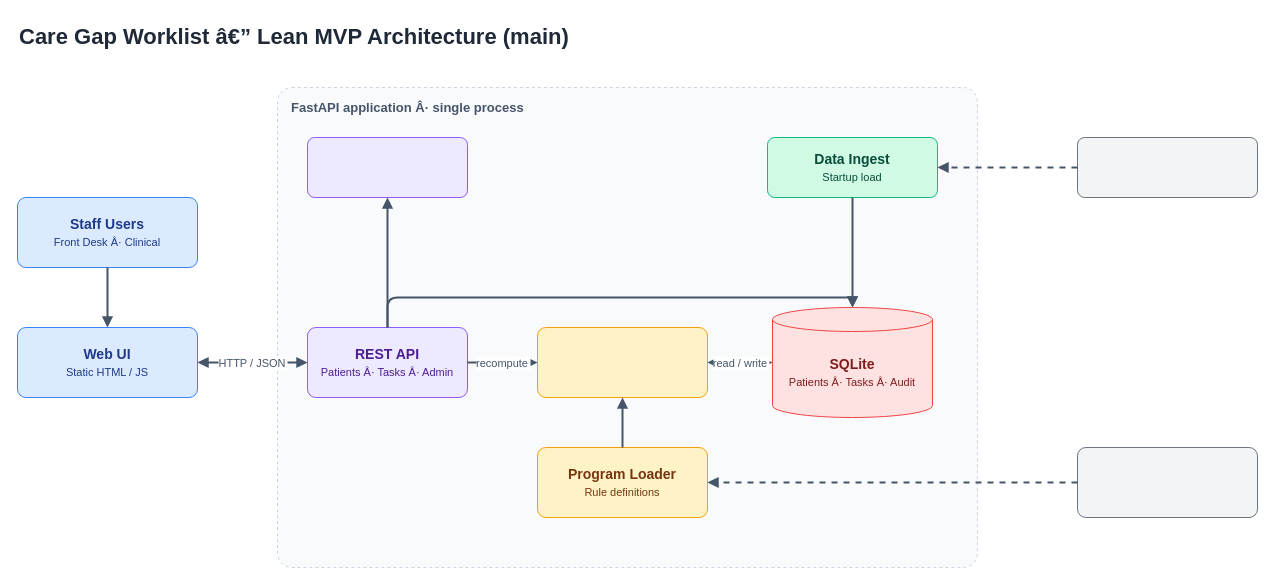
This 1275x585 diagram has some shape labels left out. The shapes that lost their labels are listed below. From the top down, each one's box as (x1, y1, x2, y2) in pixels, then its label:
(306, 136, 468, 198): Auth Signed cookie Â· Roles
(1076, 136, 1258, 198): Patient Data CSV files
(536, 326, 708, 398): Care Gap Engine Evaluate Â· Recompute
(1076, 446, 1258, 518): Care Programs YAML files
